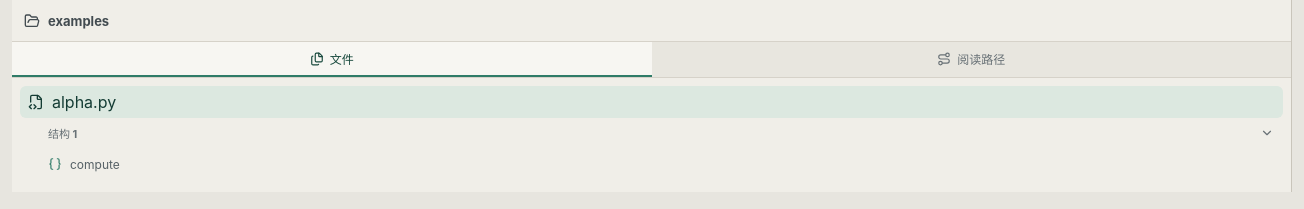
Scenario: FileExplorer workspace interactions › collapses and re-expands the target list
Expected: the button "compute" is shown, [42,148,1268,180]
Click the button named "收起结构列表" at (1266, 133), box [1254,121,1278,145]
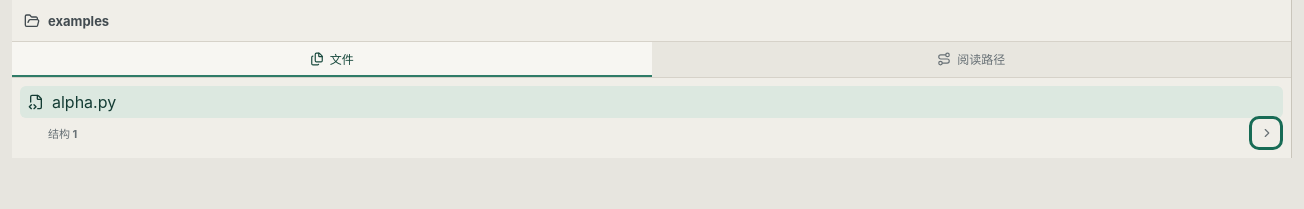
Now the button named "展开结构列表" is collapsed
Now the button "compute" is gone
Click the button named "展开结构列表" at (1266, 133), box [1254,121,1278,145]
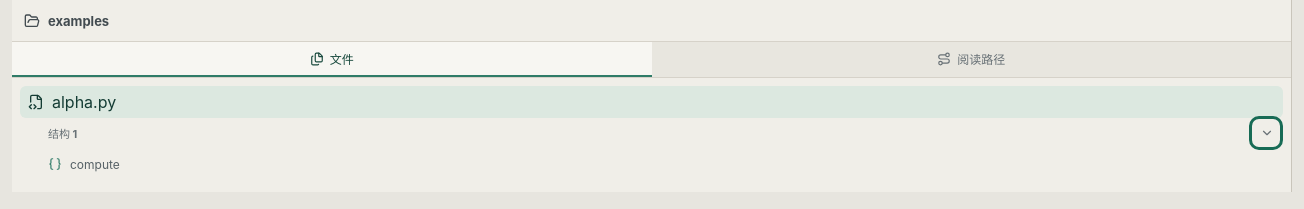
Now the button "compute" is shown, box [42,148,1268,180]
